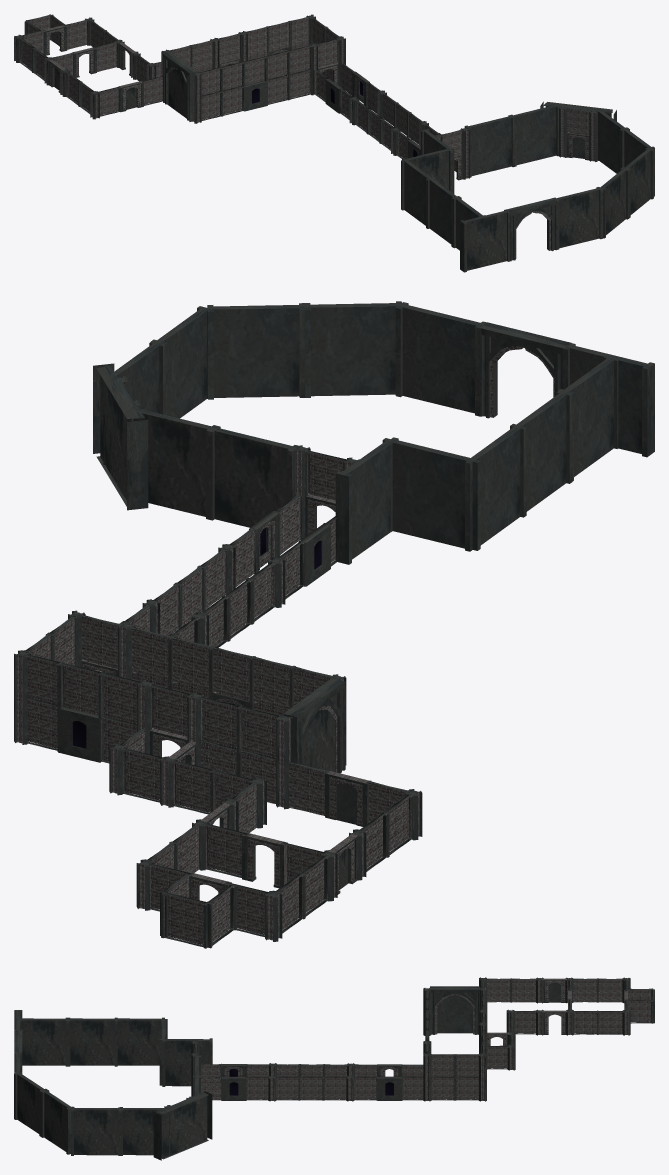
The model's file is Map 1.glb.
The picture shows the model from 3 angles, top to bottom: view 1: azimuth 30°, elevation 25°; view 2: azimuth 150°, elevation 25°; view 3: azimuth 270°, elevation 25°; orthographic projection. The views are drawn at different scales.
Parts seen in each view (by area): view 1: Big_Wall-col.009, Big_Wall-col, Big_Wall-col.006, Big_Wall-col.004, Big_Wall-col.001, Big_Wall-col.014, Big_Wall-col.010, Big_Wall-col.002, Archway-col, Big_Wall-col.007, Big_Wall-col.016, Archway-col.001 (+35 smaller); view 2: Big_Wall-col.002, Big_Wall-col.001, Big_Wall-col, Big_Wall-col.016, Big_Wall-col.006, Big_Wall-col.004, Big_Wall-col.008, Big_Wall-col.015, Big_Wall-col.014, Big_Wall-col.009, Big_Wall-col.010, Big_Wall-col.011 (+53 smaller); view 3: Big_Wall-col.008, Big_Wall-col.005, Big_Wall-col.010, Big_Wall-col.011, Big_Wall-col.014, Big_Wall-col.015, Big_Wall-col.007, Big_Wall-col.002, Big_Wall-col.001, Big_Wall-col.003, Archway-col.001, Window_Closed-col.003 (+32 smaller).
Boxes of the visible parts, left/top/right/bottom form: Big_Wall-col.009: left=460, top=209, right=510, bottom=272; Big_Wall-col: left=553, top=187, right=603, bottom=249; Big_Wall-col.006: left=464, top=115, right=514, bottom=177; Big_Wall-col.004: left=510, top=104, right=559, bottom=166; Big_Wall-col.001: left=597, top=168, right=629, bottom=238; Big_Wall-col.014: left=401, top=159, right=434, bottom=228; Big_Wall-col.010: left=426, top=177, right=459, bottom=247; Big_Wall-col.002: left=622, top=148, right=653, bottom=217; Archway-col: left=506, top=198, right=556, bottom=261; Big_Wall-col.007: left=595, top=110, right=627, bottom=173; Big_Wall-col.016: left=402, top=147, right=452, bottom=192; Archway-col.001: left=163, top=52, right=196, bottom=121; Big_Wall-col.002: left=207, top=303, right=305, bottom=399; Big_Wall-col.001: left=304, top=301, right=402, bottom=397; Big_Wall-col: left=395, top=302, right=486, bottom=416; Big_Wall-col.016: left=386, top=437, right=476, bottom=551; Big_Wall-col.006: left=208, top=426, right=299, bottom=527; Big_Wall-col.004: left=127, top=406, right=218, bottom=519; Big_Wall-col.008: left=93, top=363, right=148, bottom=510; Big_Wall-col.015: left=335, top=438, right=398, bottom=564; Big_Wall-col.014: left=465, top=424, right=526, bottom=550; Big_Wall-col.009: left=562, top=343, right=654, bottom=457; Big_Wall-col.010: left=510, top=390, right=572, bottom=511; Big_Wall-col.011: left=558, top=356, right=618, bottom=480; Big_Wall-col.008: left=153, top=1091, right=212, bottom=1160; Big_Wall-col.005: left=71, top=1107, right=121, bottom=1155; Big_Wall-col.010: left=67, top=1017, right=117, bottom=1066; Big_Wall-col.011: left=19, top=1017, right=68, bottom=1066; Big_Wall-col.014: left=114, top=1017, right=164, bottom=1065; Big_Wall-col.015: left=162, top=1038, right=212, bottom=1086; Big_Wall-col.007: left=120, top=1107, right=170, bottom=1155; Big_Wall-col.002: left=41, top=1089, right=74, bottom=1154; Big_Wall-col.001: left=14, top=1072, right=47, bottom=1136; Big_Wall-col.003: left=437, top=994, right=472, bottom=1033; Archway-col.001: left=430, top=986, right=479, bottom=1034; Window_Closed-col.003: left=377, top=1076, right=402, bottom=1100.
Bounding box in the file's own units: 37.89 × 5.06 × 63.84.
186 materials, 181 textured.
